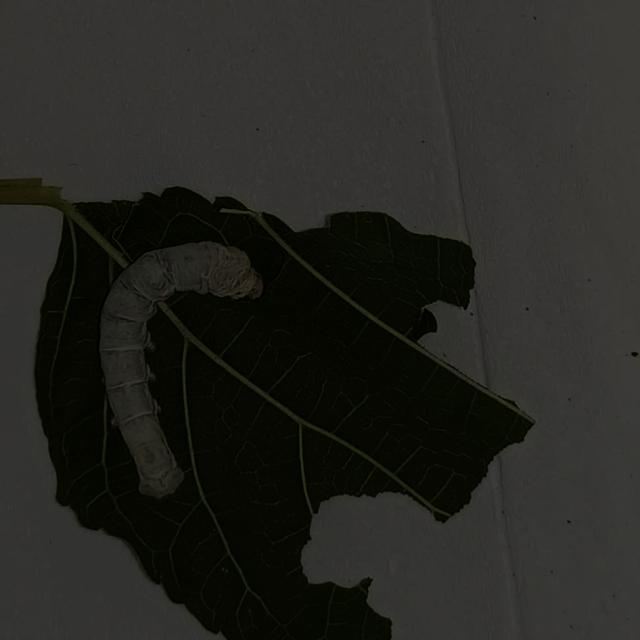Healthy: (87, 221, 279, 509)
